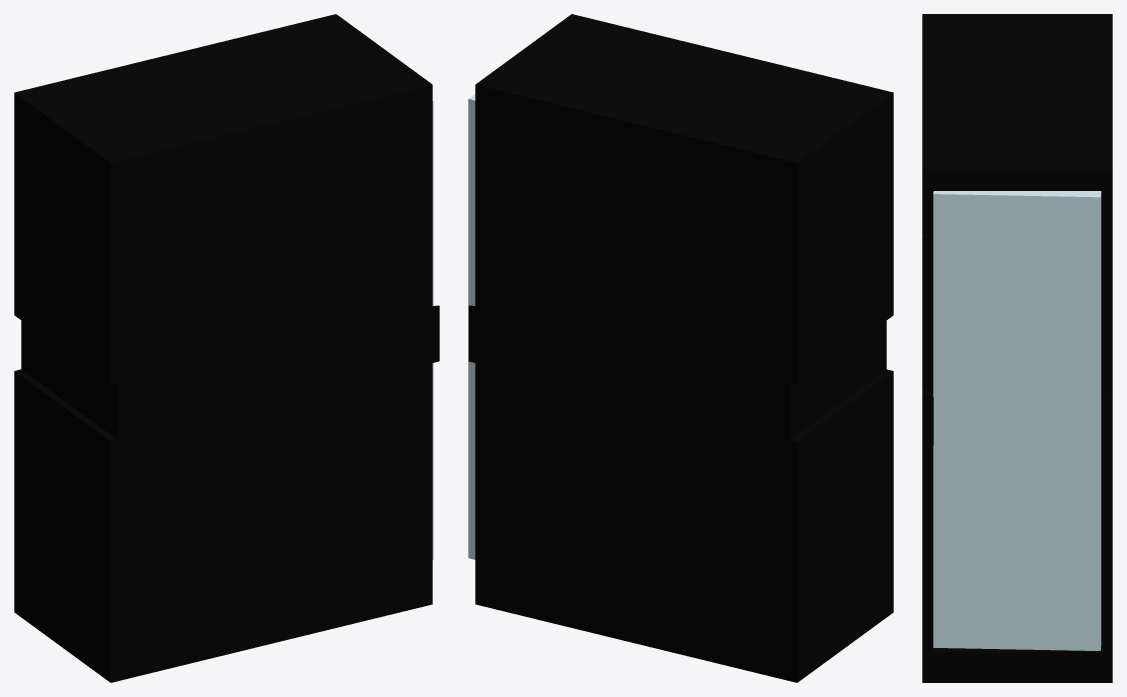
The model's file is closeRack.fbx.
3 renders of one model, left to right at view 1: azimuth 30°, elevation 25°; view 2: azimuth 150°, elevation 25°; view 3: azimuth 270°, elevation 25°, orthographic.
Visible parts, largest first — view 1: Cube, Cube.001; view 2: Cube, Cube.001; view 3: Cube.001, Cube.
Part boxes in pixels (x1,y1,x2,y2): Cube: [14, 14, 439, 682]; Cube.001: [432, 100, 433, 559]; Cube: [468, 14, 893, 682]; Cube.001: [468, 94, 475, 559]; Cube.001: [933, 191, 1101, 650]; Cube: [922, 14, 1112, 682].
Size of the model in its own units: 208 by 309 by 104.
